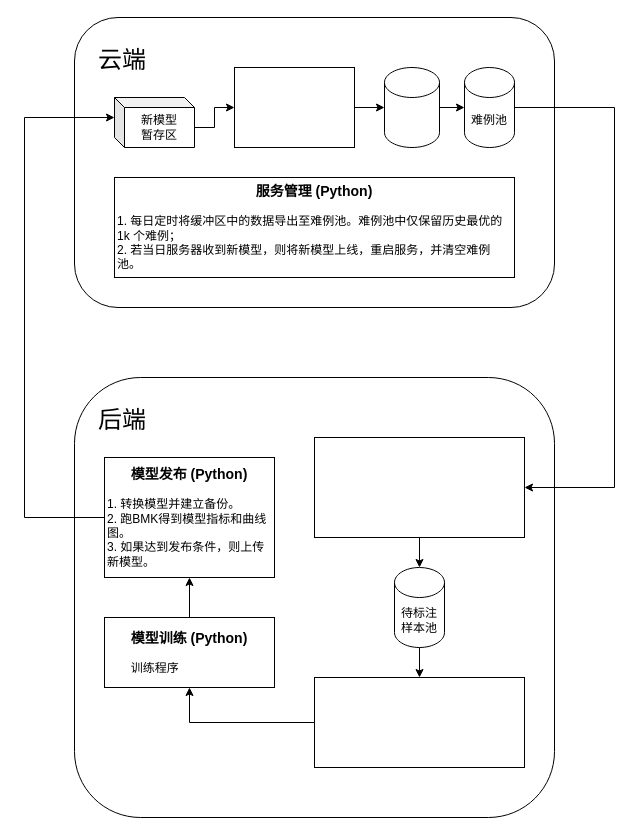
Image size: 640x835. Some labels were removed from this diagram. The shapes that lost their labels are listed below. From the top down, each one's centre as x and y in pixels, then its label:
At [294,107]: "在线服务 (C++) 持续难例挖掘， 存储于缓冲区中".
At [412,107]: "日缓冲".
At [419,487]: "数据管理 (Python) 1. 每日定时拉取难例池的所有数据； 2. 转换数据格式，整理标签，准备标注； 3. 管理备份、写入日志。".
At [419,722]: "数据管理 (Python) 1. 网页标注平台 。 2. 审核工具。 3. 将标完的数据提交至训练集中。".
